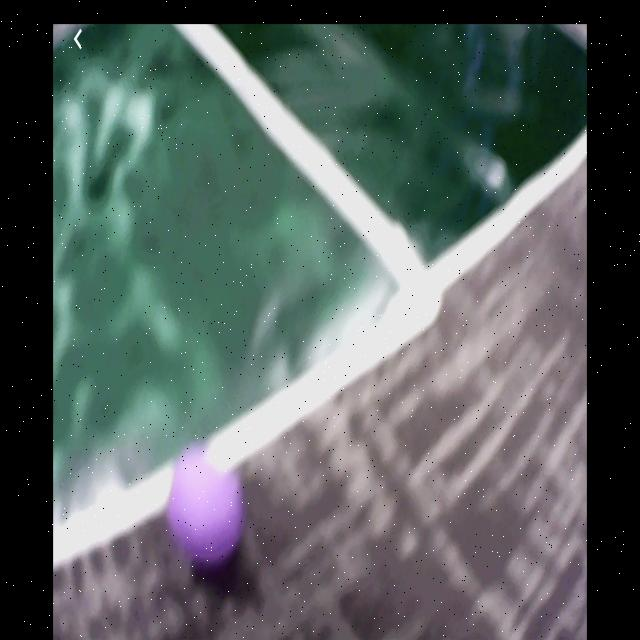ball: (169, 442, 244, 561)
